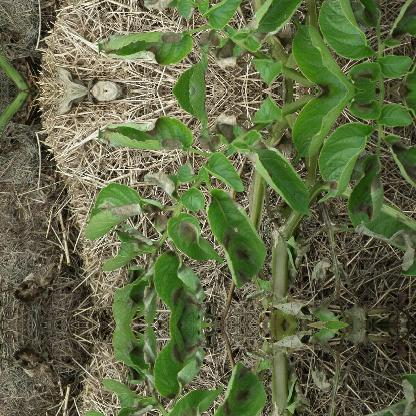Early-Blight: (193, 179, 276, 289), (146, 246, 218, 322), (146, 327, 218, 403), (90, 109, 198, 155), (90, 25, 198, 71), (337, 148, 395, 232), (193, 360, 276, 416), (158, 202, 230, 264), (199, 103, 274, 160), (199, 20, 274, 76), (157, 385, 230, 416), (337, 0, 395, 32)
